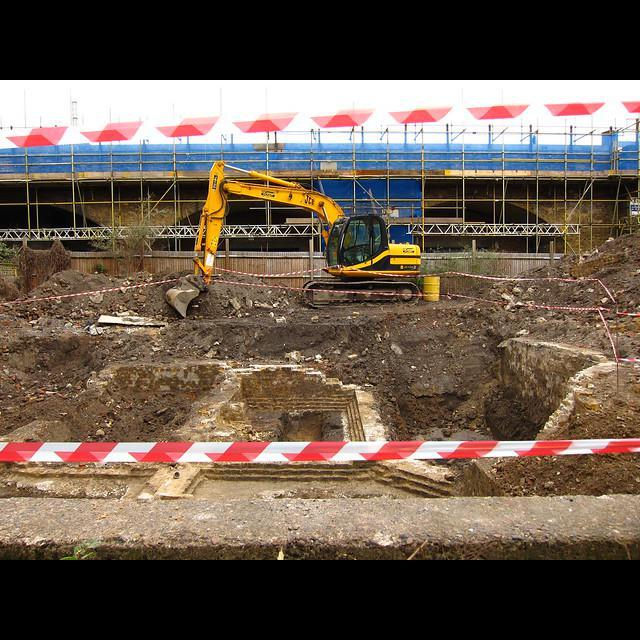Excavator: (166, 157, 422, 316)
